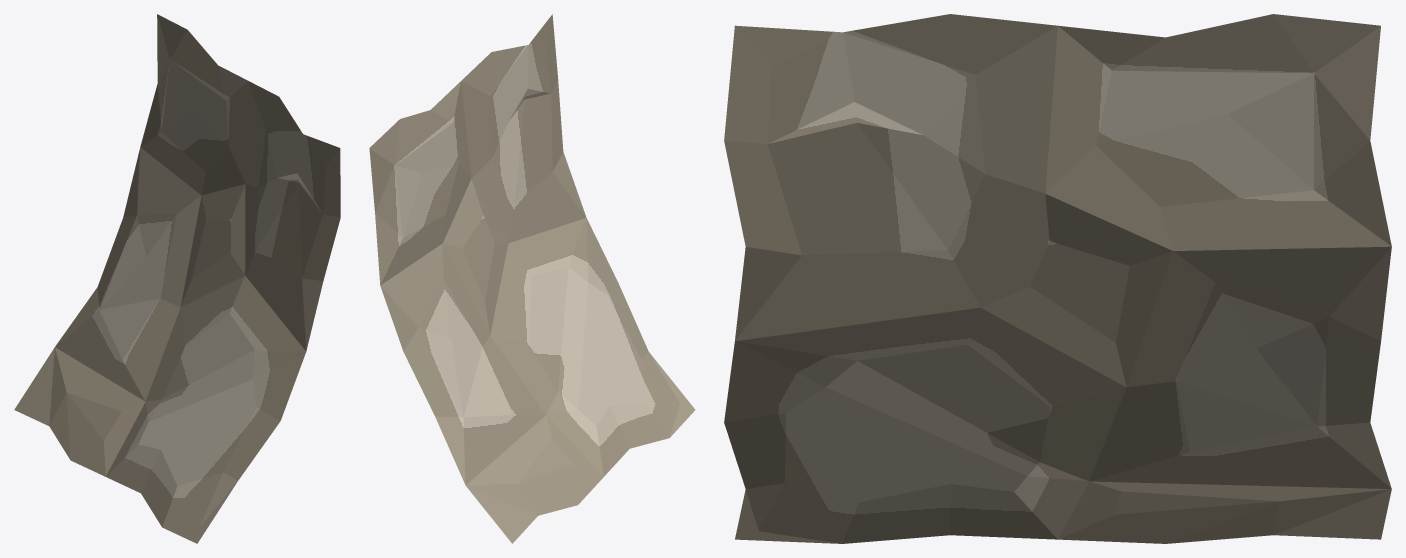
File: SoftArch_00.fbx
The picture shows the model from 3 angles, left to right: view 1: azimuth 30°, elevation 25°; view 2: azimuth 150°, elevation 25°; view 3: azimuth 270°, elevation 25°; orthographic projection. The views are drawn at different scales.
Visible parts, largest first — view 1: SoftArch_00; view 2: SoftArch_00; view 3: SoftArch_00.
Boxes of the visible parts, <box> form: SoftArch_00: <box>14,14,340,543</box>; SoftArch_00: <box>369,14,695,543</box>; SoftArch_00: <box>724,14,1391,543</box>.
Bounding box in the file's own units: 46.56 × 112 × 103.
Materials: 1 (1 with a texture image).
